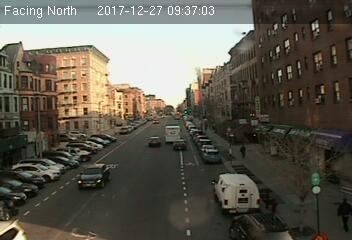car: (228, 209, 305, 240), (78, 163, 110, 187), (202, 147, 222, 163), (147, 136, 163, 147), (172, 138, 186, 150)
pedestrian: (336, 199, 352, 232)
truck: (210, 173, 259, 212), (164, 125, 181, 144)
